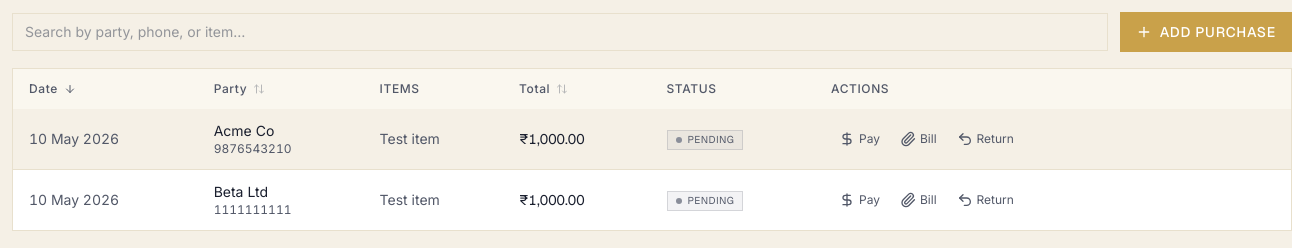
PurchasesTable — render states › filters rows via the search input
This screenshot has width=1292, height=248.
expect the text "Acme Co" is shown: met, box [214, 122, 274, 139]
expect the text "Beta Ltd" is shown: met, box [214, 183, 268, 200]
Step 1. Type "beta" into the search field with placeholder "Search by party, phone, or item…" → (560, 32), box [12, 13, 1108, 51]
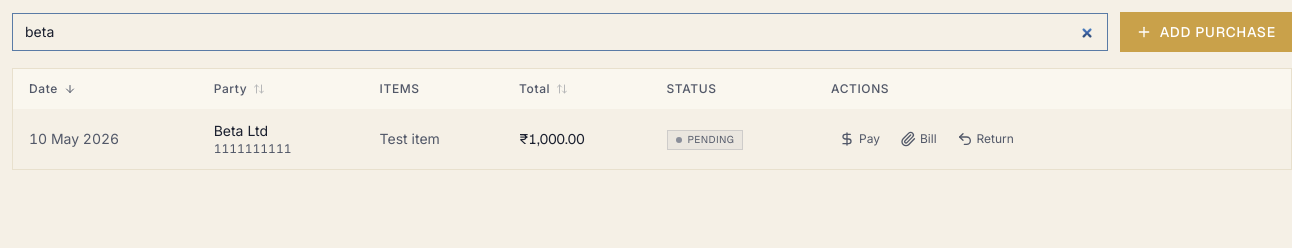
expect the text "Beta Ltd" is shown: met, box [214, 122, 268, 139]
expect the text "Acme Co" is gone: met
